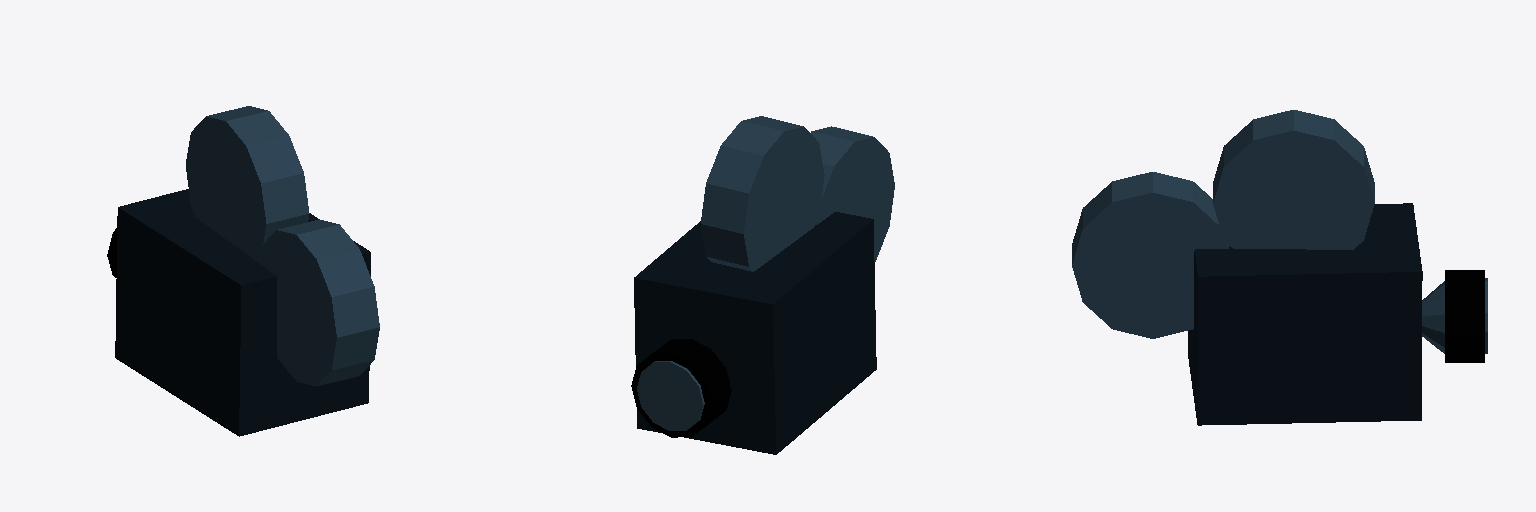
The picture shows the model from 3 angles: view 1: azimuth 30°, elevation 25°; view 2: azimuth 150°, elevation 25°; view 3: azimuth 270°, elevation 25°; orthographic projection.
Parts seen in each view (by area): view 1: group[number redacted], group[number redacted], group[number redacted]; view 2: group[number redacted], group[number redacted], group[number redacted], group[number redacted], group[number redacted]; view 3: group[number redacted], group[number redacted], group[number redacted], group[number redacted], group[number redacted].
Part boxes in pixels (left/top/right/bottom): group[number redacted]: left=115, top=189, right=370, bottom=436; group[number redacted]: left=259, top=219, right=379, bottom=385; group[number redacted]: left=186, top=106, right=309, bottom=260; group[number redacted]: left=634, top=212, right=876, bottom=454; group[number redacted]: left=701, top=116, right=824, bottom=271; group[number redacted]: left=811, top=126, right=894, bottom=261; group[number redacted]: left=631, top=339, right=731, bottom=437; group[number redacted]: left=637, top=361, right=704, bottom=430; group[number redacted]: left=1188, top=203, right=1422, bottom=425; group[number redacted]: left=1213, top=110, right=1374, bottom=249; group[number redacted]: left=1072, top=172, right=1228, bottom=338; group[number redacted]: left=1445, top=270, right=1484, bottom=362; group[number redacted]: left=1422, top=281, right=1444, bottom=353.
Bounding box in the file's own units: 0.83 × 1.44 × 2.01.